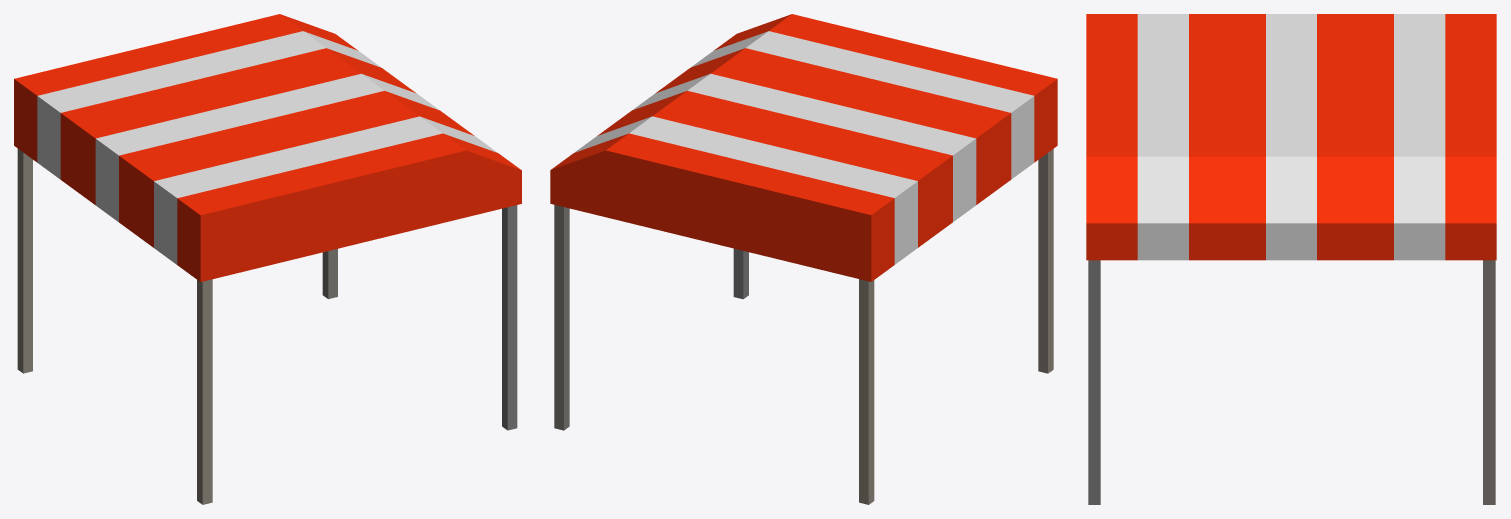
Rendered from small tent.fbx.
3 views of the same model, side by side, from view 1: azimuth 30°, elevation 25°; view 2: azimuth 150°, elevation 25°; view 3: azimuth 270°, elevation 25° (orthographic). The views are drawn at different scales.
Parts seen in each view (by area): view 1: Cube.004, Cube.002, Cube.001, Cube.003, Cube; view 2: Cube.004, Cube.003, Cube, Cube.002, Cube.001; view 3: Cube.004, Cube, Cube.001.
Boxes of the visible parts, <box> form: Cube.004: <box>14,14,521,282</box>; Cube.002: <box>197,279,212,504</box>; Cube.001: <box>502,205,517,430</box>; Cube.003: <box>17,148,32,373</box>; Cube: <box>322,249,337,299</box>; Cube.004: <box>550,14,1057,281</box>; Cube.003: <box>859,279,874,504</box>; Cube: <box>554,205,569,430</box>; Cube.002: <box>1038,149,1053,373</box>; Cube.001: <box>733,248,748,299</box>; Cube.004: <box>1086,14,1496,260</box>; Cube: <box>1483,260,1495,504</box>; Cube.001: <box>1088,260,1100,504</box>.
Bounding box in the file's own units: 1006 × 870 × 1011.
